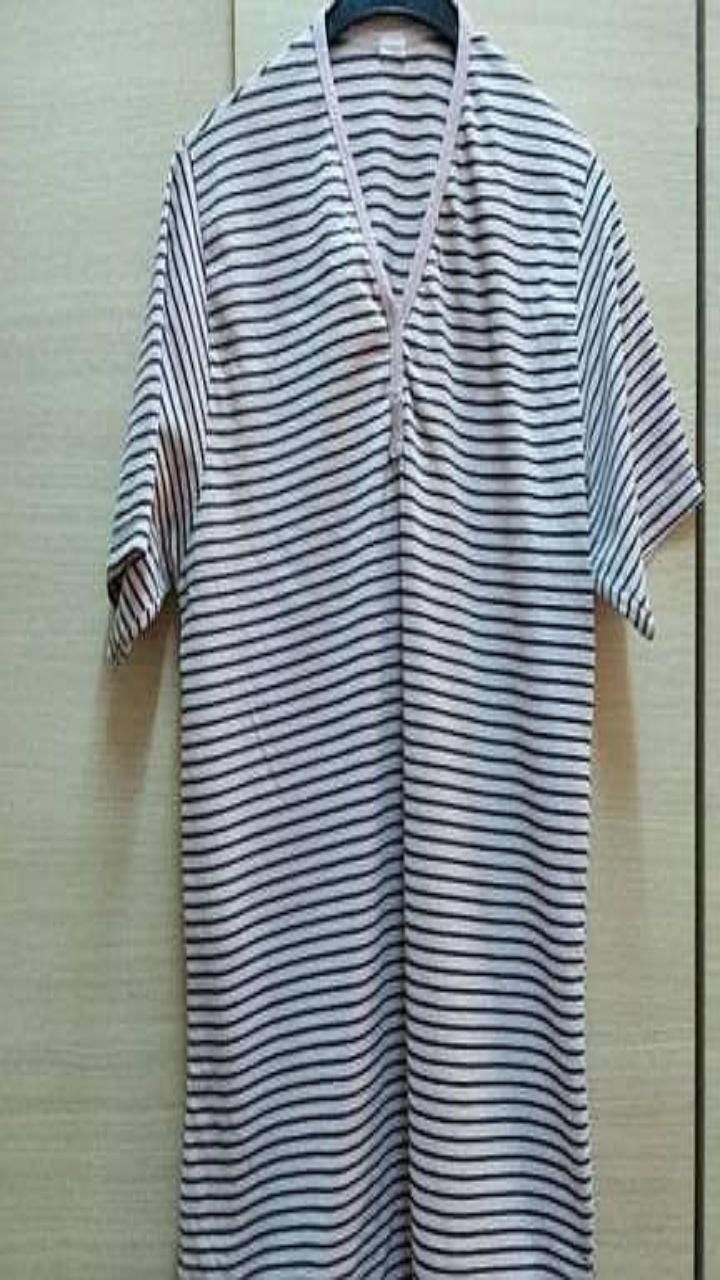T-Shirt: (107, 5, 702, 1279)
